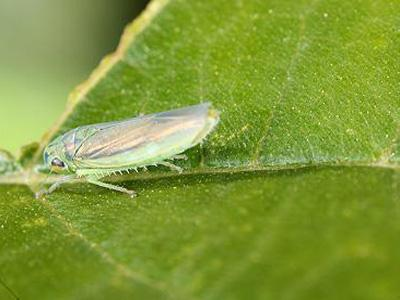Cicadellidae: (37, 104, 224, 194)
